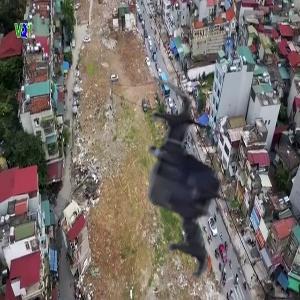drone: (73, 76, 281, 284)
